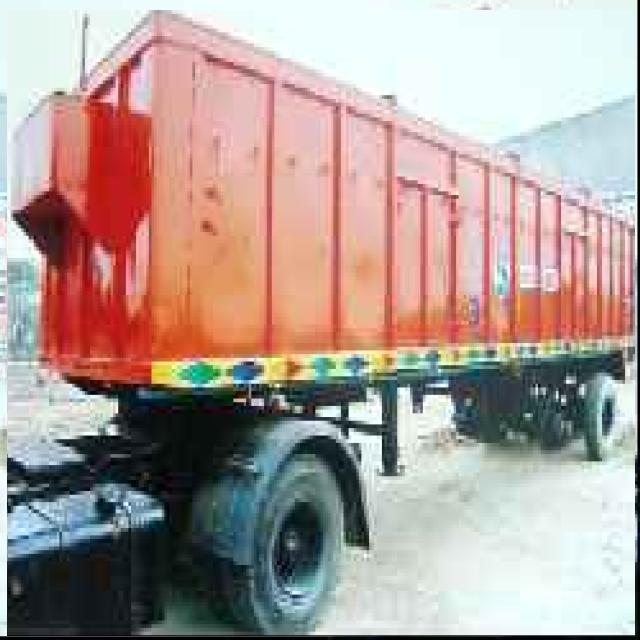truck: (8, 11, 635, 636)
